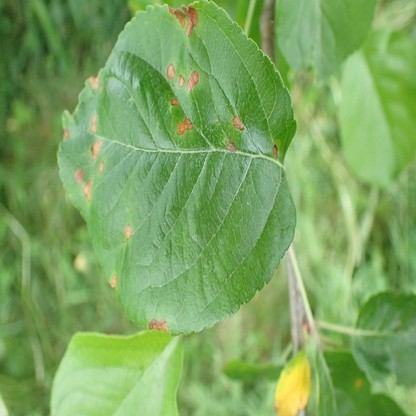frogeye: (168, 6, 199, 37), (148, 317, 169, 333), (177, 117, 194, 135), (90, 139, 103, 160), (186, 70, 199, 91), (84, 178, 92, 203), (233, 116, 245, 131), (74, 167, 84, 183), (89, 75, 99, 90), (90, 114, 97, 133), (167, 63, 175, 79), (227, 141, 236, 152), (126, 225, 132, 240), (272, 144, 278, 159), (110, 276, 117, 288), (178, 74, 184, 88), (63, 128, 70, 139), (98, 161, 104, 173), (171, 98, 179, 106)
